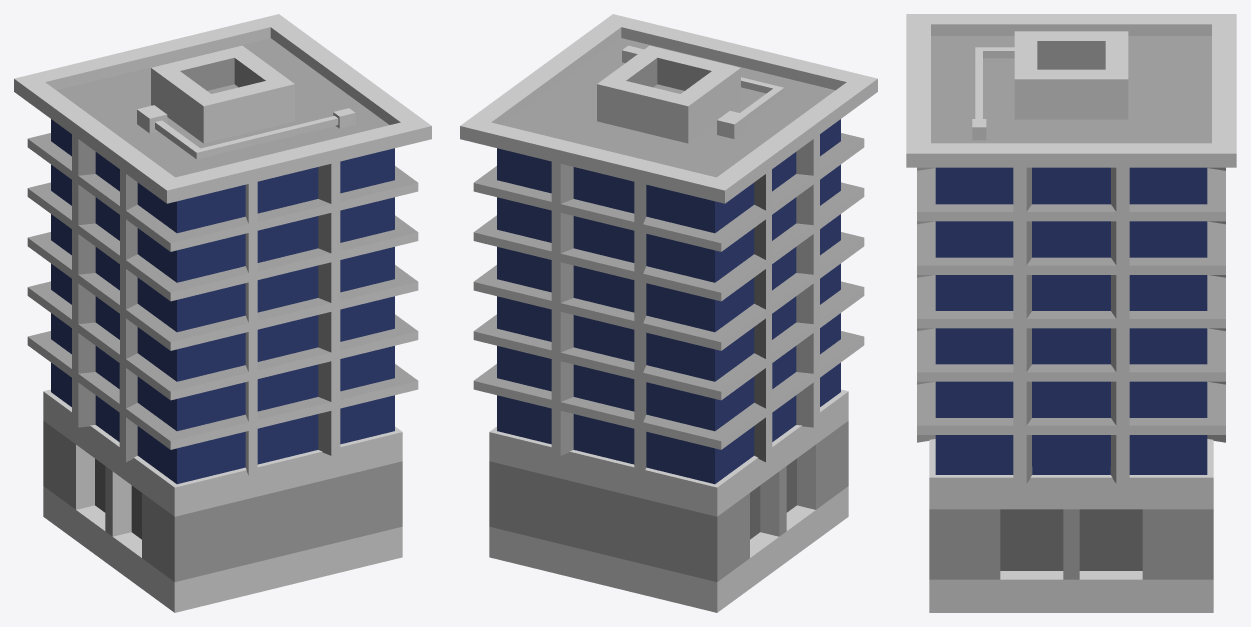
Rendered from house_11.glb.
3 views of the same model, side by side, from view 1: azimuth 30°, elevation 25°; view 2: azimuth 150°, elevation 25°; view 3: azimuth 270°, elevation 25° (orthographic). The views are drawn at different scales.
Parts seen in each view (by area): view 1: house_11; view 2: house_11; view 3: house_11.
Boxes of the visible parts, box(x1,y1,x2,y2) form: house_11: box(14, 14, 431, 612); house_11: box(460, 14, 877, 612); house_11: box(906, 14, 1236, 612).
Size of the model in its own units: 1.91 by 3.18 by 1.91.
